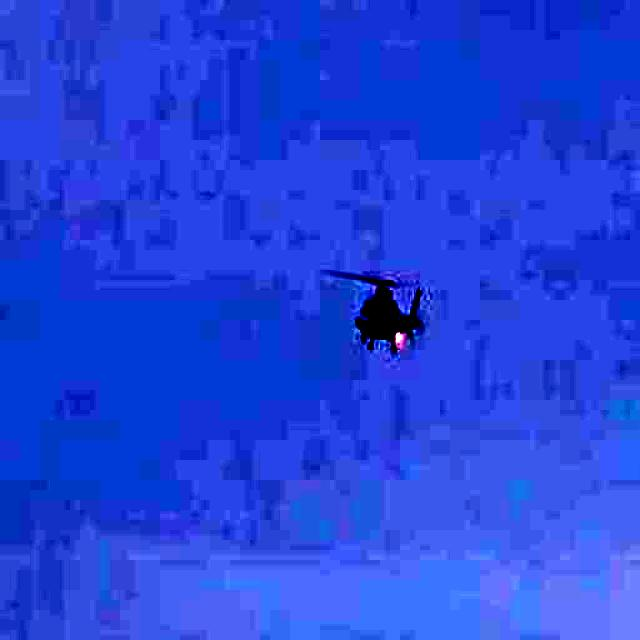drone: (304, 240, 450, 378)
